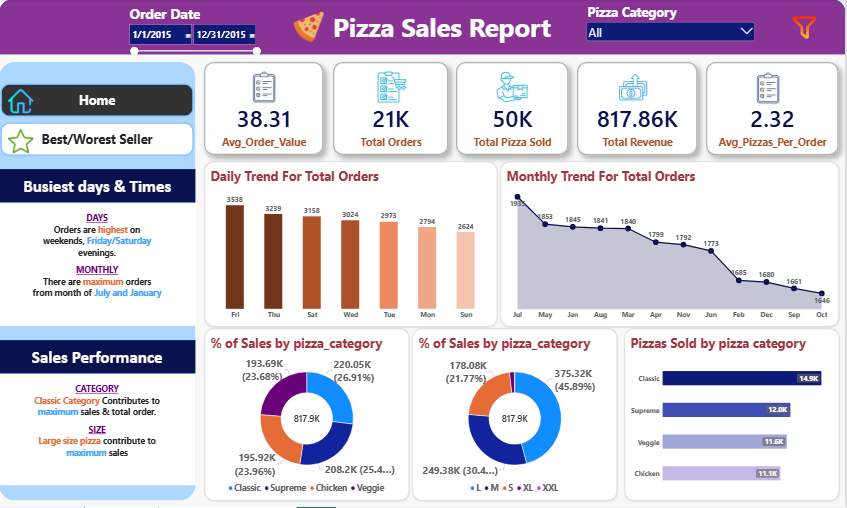

This screenshot's page, from the dashboard's own definition file:
{"tool":"powerbi","page":{"name":"Home","canvas":[2650,1590],"ordinal":0},"visuals":[{"type":"cardVisual","fields":{"Data":["_Measures.Avg_Order_Value"]},"box":[643.1,196,373.6,290.9],"z":0},{"type":"shape","box":[0,0,2650,174.3],"z":1000},{"type":"shape","box":[0,196.5,615,1372.5],"z":2000},{"type":"pageNavigator","box":[0,259.9,615,237.7],"z":3000},{"type":"shape","box":[0,532.1,615.1,104.9],"z":4000},{"type":"shape","box":[0,638.5,616.6,385],"z":5000},{"type":"shape","box":[0,1068.2,615.1,104.9],"z":6000},{"type":"shape","box":[0,1172.8,615.1,348.7],"z":7000},{"type":"image","box":[2469.3,12.7,104.1,150],"z":8000},{"type":"image","box":[777.8,217.4,101.1,119.4],"z":9000},{"type":"cardVisual","fields":{"Data":["_Measures.Total Pizza Sold"]},"box":[1430,196,352.2,290.9],"z":10000},{"type":"cardVisual","fields":{"Data":["_Measures.Total Revenue"]},"box":[1810,196.5,377.2,291.6],"z":11000},{"type":"cardVisual","fields":{"Data":["_Measures.Avg_Pizzas_Per_Order"]},"box":[2212.6,196.5,415.3,291.6],"z":12000},{"type":"cardVisual","fields":{"Data":["_Measures.Total Orders"]},"box":[1044.2,196,361.3,290.9],"z":13000},{"type":"image","box":[1178.9,217.4,101.1,119.4],"z":14000},{"type":"image","box":[1555.6,217.4,101.1,119.4],"z":15000},{"type":"image","box":[1935.3,217.4,101.1,119.4],"z":16000},{"type":"image","box":[2357.2,217.7,101.1,119.4],"z":17000},{"type":"image","box":[28.5,275.8,79.6,88.8],"z":18000},{"type":"image","box":[28.5,399.4,79.6,88.8],"z":19000},{"type":"clusteredColumnChart","title":"Daily Trend For Total Orders","fields":{"Category":["pizza_sales.Day Name"],"Y":["_Measures.Total Orders"]},"box":[643.5,510.3,912.9,513.5],"z":20000},{"type":"lineChart","title":"Monthly Trend For Total Orders","fields":{"Category":["pizza_sales.Month Name"],"Y":["_Measures.Total Orders"]},"box":[1572.2,510.3,1055.6,513.5],"z":21000},{"type":"donutChart","title":"% of Sales by pizza_category","fields":{"Category":["pizza_sales.pizza_category"],"Y":["_Measures.Total Revenue"]},"box":[643.5,1033.4,637.1,535.7],"z":22000},{"type":"donutChart","title":"% of Sales by pizza_category","fields":{"Category":["pizza_sales.pizza_size"],"Y":["_Measures.Total Revenue"]},"box":[1296.5,1033.4,637.1,535.7],"z":23000},{"type":"clusteredBarChart","title":"Pizzas Sold by pizza category","fields":{"Category":["pizza_sales.pizza_category"],"Y":["_Measures.Total Pizza Sold"]},"box":[1959,1033.4,668.8,535.7],"z":24000},{"type":"textbox","box":[0,666.7,613.5,338],"z":25000},{"type":"textbox","box":[0,1201.9,613.5,319.3],"z":26000},{"type":"textbox","box":[1045.4,34.4,763.7,128.3],"z":27000},{"type":"slicer","fields":{"Values":["pizza_sales.pizza_category"]},"box":[1835.3,12.7,535.7,149],"z":28000},{"type":"image","box":[919.3,12.7,98.3,149],"z":29000},{"type":"slicer","fields":{"Values":["pizza_sales.order_date"]},"box":[400.6,15.6,422.5,262.9],"z":30000}]}

Visuals, with their boxes in screenshot pixels (x1, y1, x2, y2), scaled from the page's 2650x1590 canvas onto the 847x508 screenshot:
cardVisual - _Measures.Avg_Order_Value: region(206, 63, 325, 156)
shape: region(0, 0, 846, 56)
shape: region(0, 63, 197, 501)
pageNavigator: region(0, 83, 197, 159)
shape: region(0, 170, 197, 204)
shape: region(0, 204, 197, 327)
shape: region(0, 341, 197, 375)
shape: region(0, 375, 197, 486)
image: region(789, 4, 823, 52)
image: region(249, 69, 281, 108)
cardVisual - _Measures.Total Pizza Sold: region(457, 63, 570, 156)
cardVisual - _Measures.Total Revenue: region(579, 63, 699, 156)
cardVisual - _Measures.Avg_Pizzas_Per_Order: region(707, 63, 840, 156)
cardVisual - _Measures.Total Orders: region(334, 63, 449, 156)
image: region(377, 69, 409, 108)
image: region(497, 69, 530, 108)
image: region(619, 69, 651, 108)
image: region(753, 70, 786, 108)
image: region(9, 88, 35, 116)
image: region(9, 128, 35, 156)
"Daily Trend For Total Orders" clusteredColumnChart: region(206, 163, 497, 327)
"Monthly Trend For Total Orders" lineChart: region(503, 163, 840, 327)
"% of Sales by pizza_category" donutChart: region(206, 330, 409, 501)
"% of Sales by pizza_category" donutChart: region(414, 330, 618, 501)
"Pizzas Sold by pizza category" clusteredBarChart: region(626, 330, 840, 501)
textbox: region(0, 213, 196, 321)
textbox: region(0, 384, 196, 486)
textbox: region(334, 11, 578, 52)
slicer - pizza_sales.pizza_category: region(587, 4, 758, 52)
image: region(294, 4, 325, 52)
slicer - pizza_sales.order_date: region(128, 5, 263, 89)
